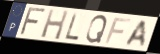A: (124, 19, 148, 48)
F: (17, 7, 48, 37), (103, 17, 133, 45)
H: (39, 8, 70, 42)
L: (64, 11, 81, 41)
Q: (84, 14, 108, 44)
